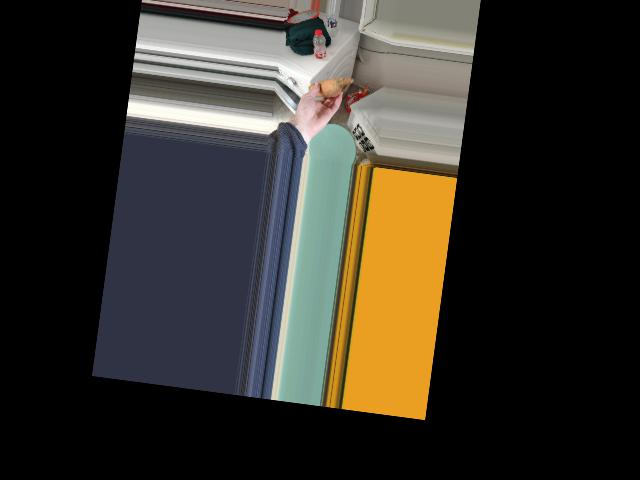sweet_potato: (312, 76, 341, 98)
